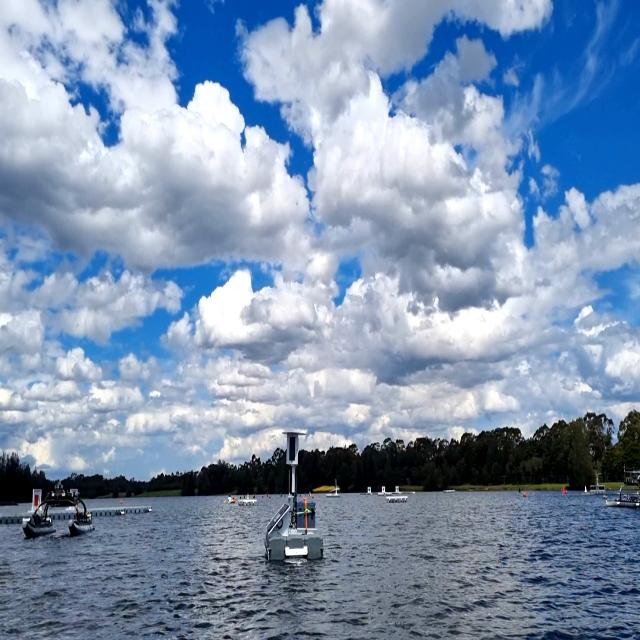led: (288, 434, 297, 464)
